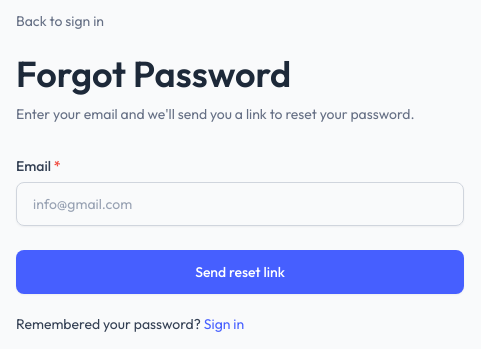
Test case: AUTH-06: ForgotPasswordForm calls authClient.requestPasswordReset with the verified signature › on success, displays the 'check your email' confirmation message
In the field with placeholder "info@gmail.com": (240,204) 16,182 -> 464,226, type "admin@example.com"
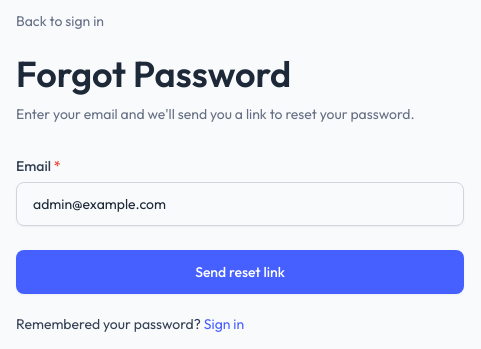
Submit the form, box 16,156 -> 464,294
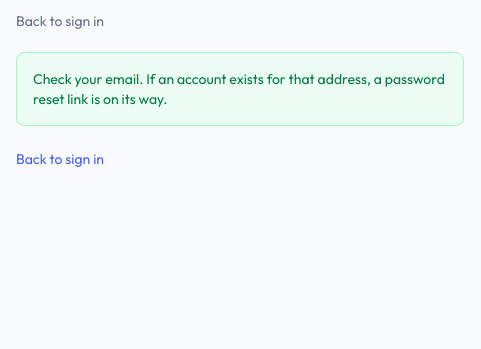
Check: the text "Check your email" is shown, box 33,70 -> 445,108
